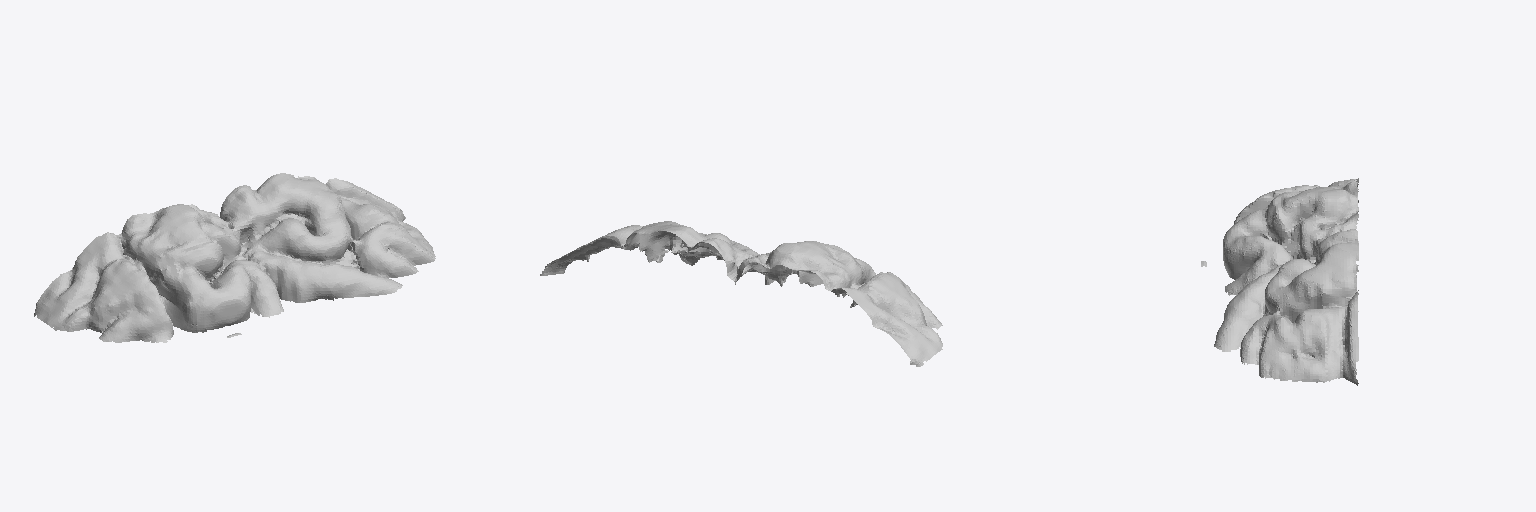
Rendered from cortex_2_4.obj.
The picture shows the model from 3 angles: view 1: azimuth 30°, elevation 25°; view 2: azimuth 150°, elevation 25°; view 3: azimuth 270°, elevation 25°; orthographic projection.
Visible parts, largest first — view 1: Cortex_2_4_Mehrdad_SagT1_Cortex_v1_No_Smooth_OBJ.000_Mehrdad_Sa; view 2: Cortex_2_4_Mehrdad_SagT1_Cortex_v1_No_Smooth_OBJ.000_Mehrdad_Sa; view 3: Cortex_2_4_Mehrdad_SagT1_Cortex_v1_No_Smooth_OBJ.000_Mehrdad_Sa.
Boxes of the visible parts, box(x1,y1,x2,y2) form: Cortex_2_4_Mehrdad_SagT1_Cortex_v1_No_Smooth_OBJ.000_Mehrdad_Sa: box(34, 173, 435, 342); Cortex_2_4_Mehrdad_SagT1_Cortex_v1_No_Smooth_OBJ.000_Mehrdad_Sa: box(540, 221, 942, 366); Cortex_2_4_Mehrdad_SagT1_Cortex_v1_No_Smooth_OBJ.000_Mehrdad_Sa: box(1201, 178, 1358, 385).
Bounding box in the file's own units: 100 × 20.24 × 36.47.